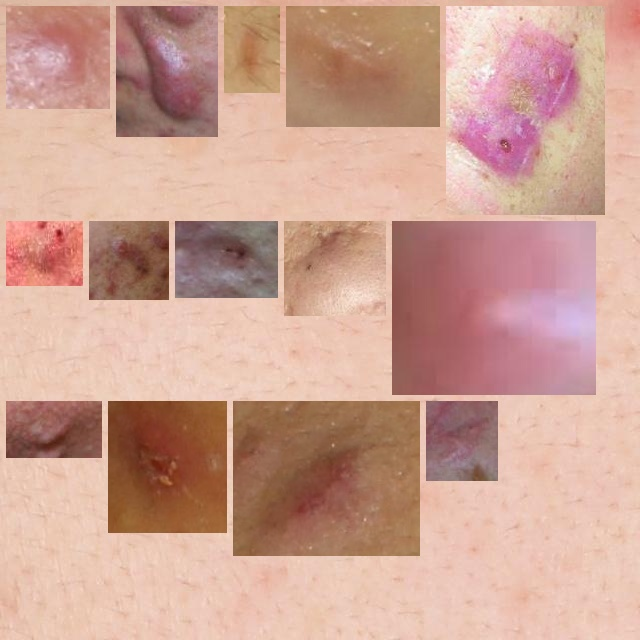nodule: (400, 229, 588, 387), (454, 14, 597, 207), (241, 409, 412, 548), (294, 14, 432, 119), (116, 409, 219, 525), (124, 14, 210, 129), (14, 14, 102, 101), (292, 229, 378, 308), (183, 229, 270, 290), (97, 229, 161, 292), (434, 409, 490, 473), (14, 409, 94, 450), (14, 229, 75, 278), (232, 14, 272, 85)
